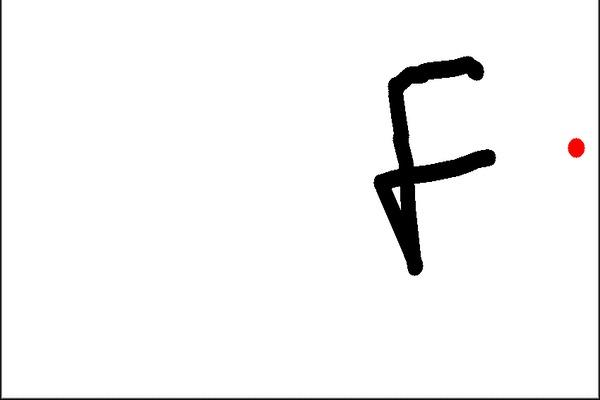F: (369, 53, 498, 277)
